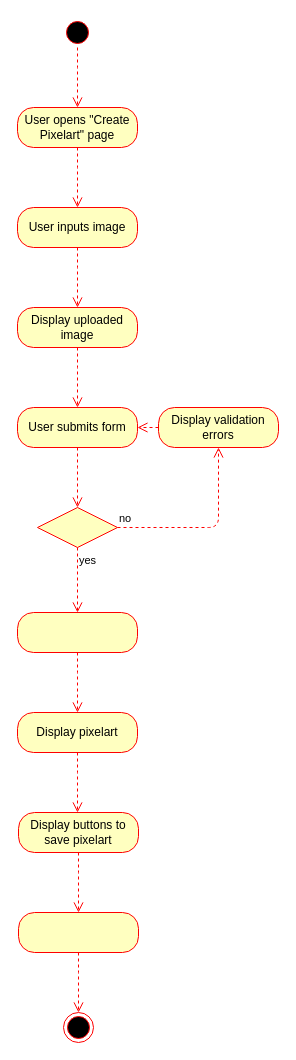
This 296x1060 diagram has some shape labels left out. The shapes that lost their labels are listed below. From the top down, each one's centre as x and y in pixels, then its label:
At (x=77, y=527): "Form is valid".
At (x=77, y=632): "Process image".
At (x=78, y=932): "User saves pixelart".
